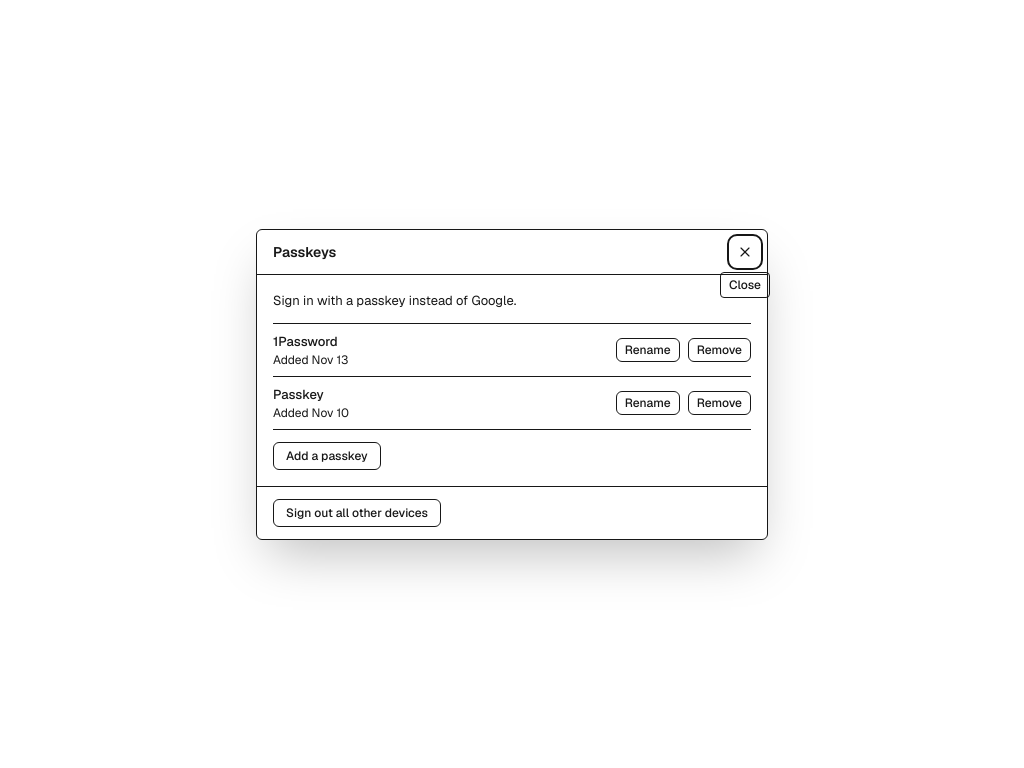
it: adding a passkey › a passkey manager that already holds one for this account says so
The image size is (1024, 768).
Click the button "Add a passkey".
click(327, 456)  # box [273,442,381,470]
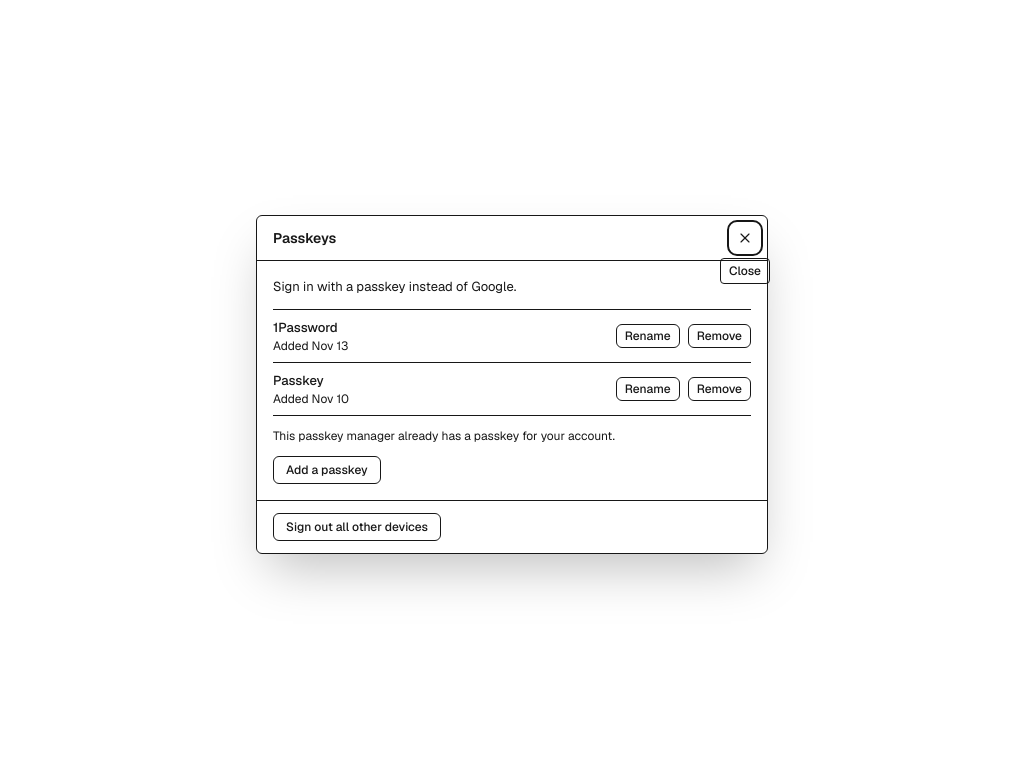
Expected: the button "Add a passkey" is enabled, [273,456,381,484]
Now the message reads "This passkey manager already has a passkey for your account.", box [273,428,615,444]
